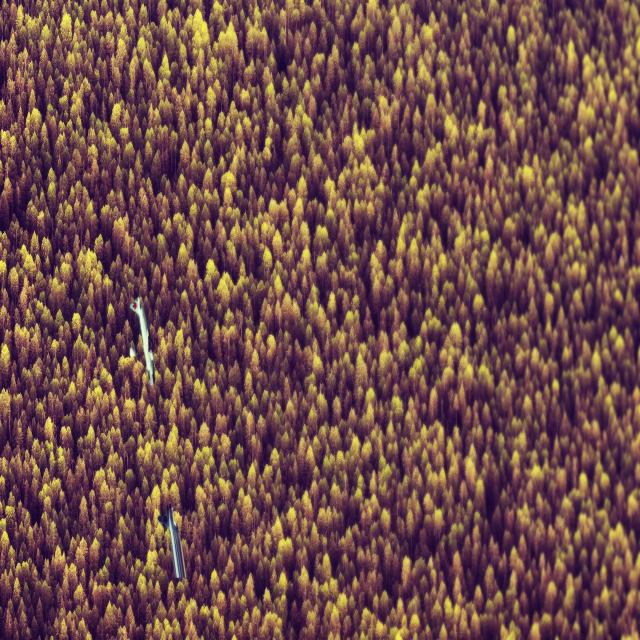airplane: (129, 296, 155, 387), (157, 502, 186, 582)
